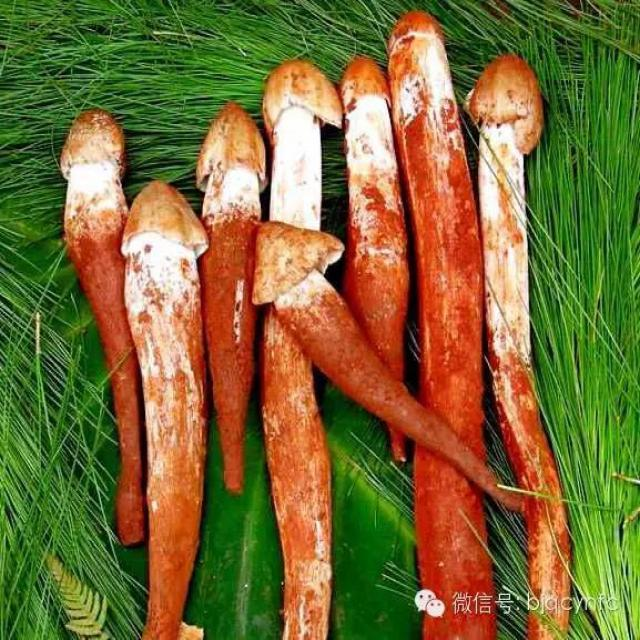Collybia albuminosa: (255, 213, 522, 513), (390, 10, 496, 639), (468, 54, 577, 640), (261, 64, 340, 640), (58, 107, 143, 540), (126, 180, 205, 620), (337, 48, 416, 469), (199, 99, 263, 493)
